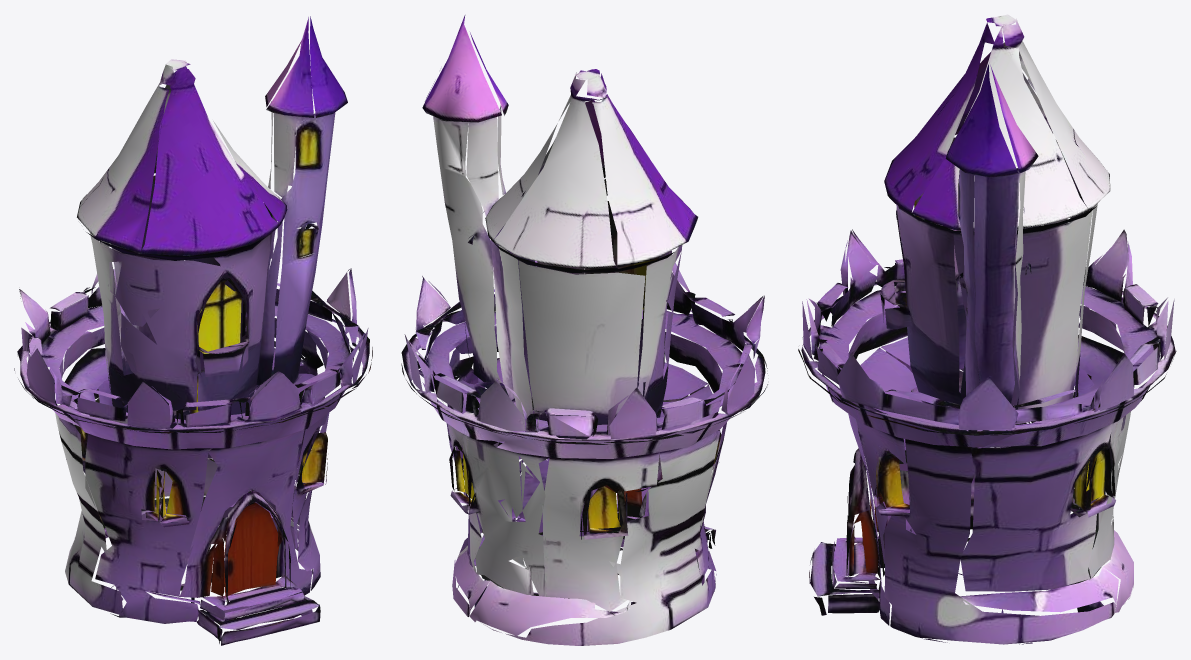
The model's file is kale_kule.glb.
The picture shows the model from 3 angles, left to right: view 1: azimuth 30°, elevation 25°; view 2: azimuth 150°, elevation 25°; view 3: azimuth 270°, elevation 25°; orthographic projection. The views are drawn at different scales.
Visible parts, largest first — view 1: geometry_0; view 2: geometry_0; view 3: geometry_0.
Boxes of the visible parts, <box> form: geometry_0: <box>14,16,372,645</box>; geometry_0: <box>401,15,767,645</box>; geometry_0: <box>798,14,1176,644</box>.
Size of the model in its own units: 0.6171 by 0.9943 by 0.5791.
Materials: 1 (1 with a texture image).
